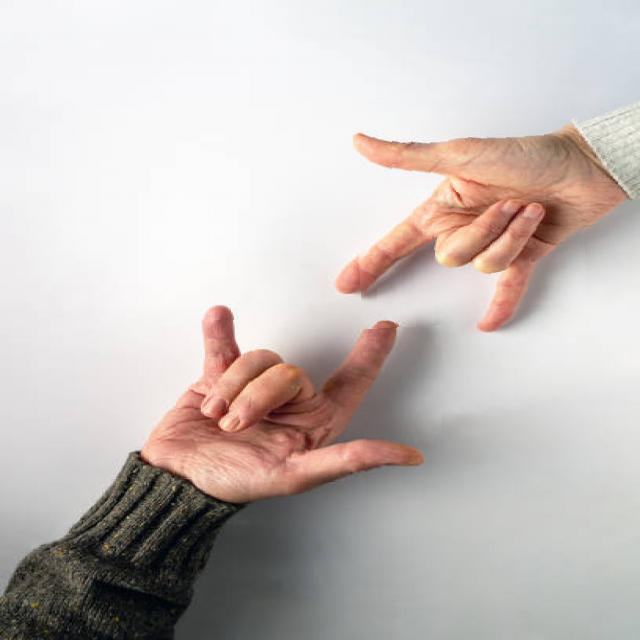I Love You: (175, 305, 442, 508), (354, 95, 586, 327)
